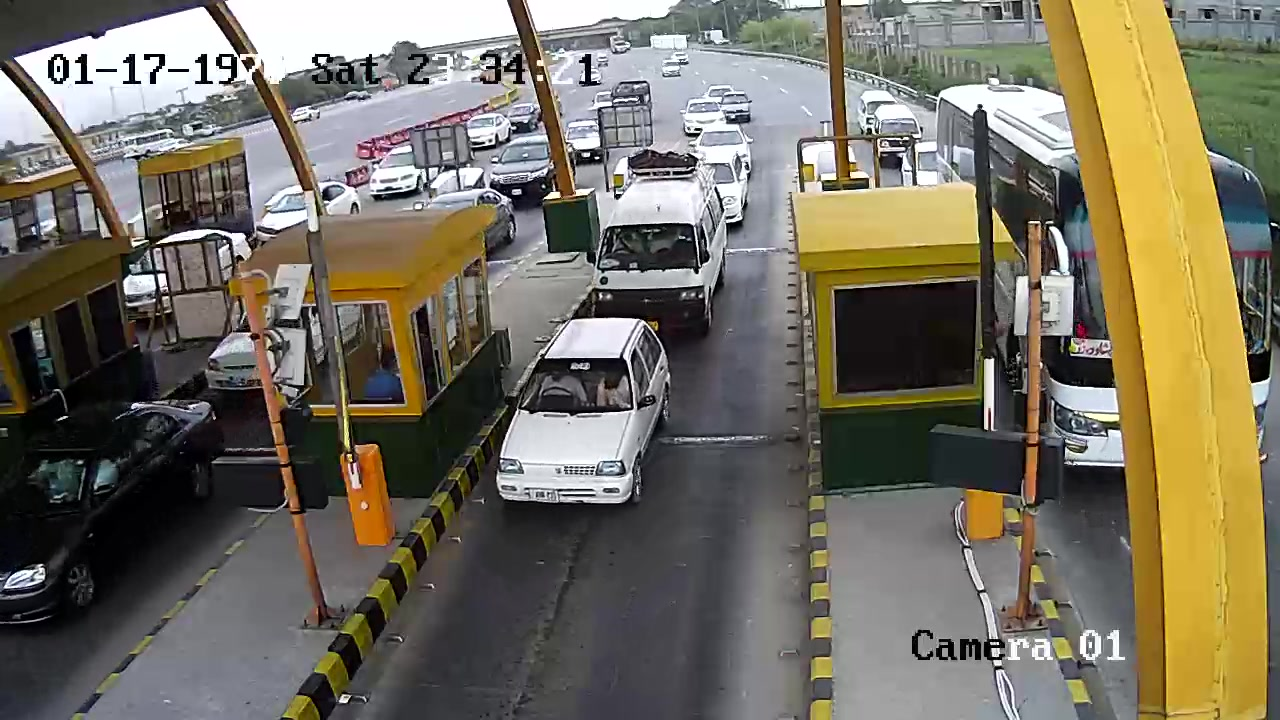F1: (488, 310, 688, 531)
